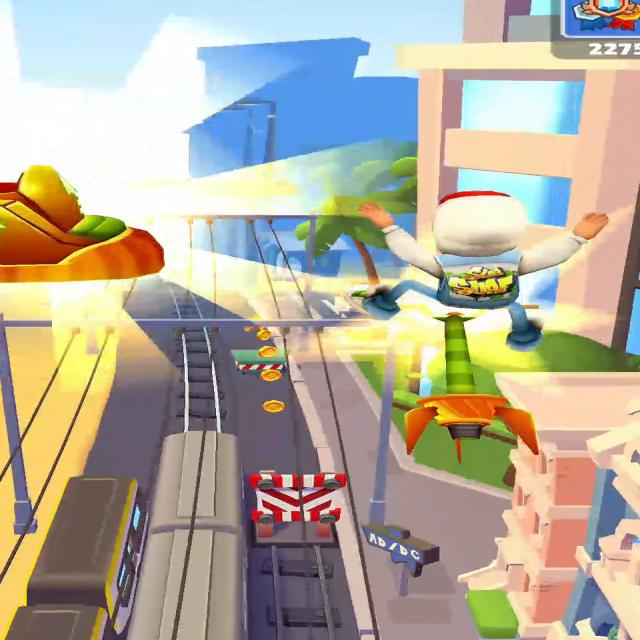blocker: (231, 349, 284, 373)
jump-barrier: (249, 472, 346, 537)
